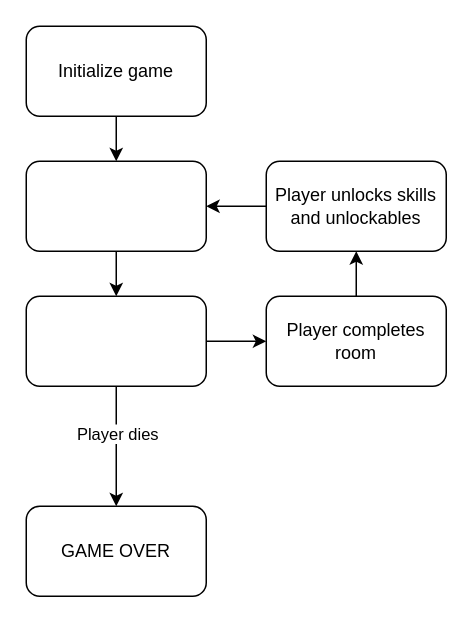
Some shapes in this 473 by 623 pixel diagram are drawn without their labels. The centre of each missing label's shape, as x and y in pixels:
"Player enters new room" belongs at point 115,205.
"Player overcomes obstacles" belongs at point 115,340.
